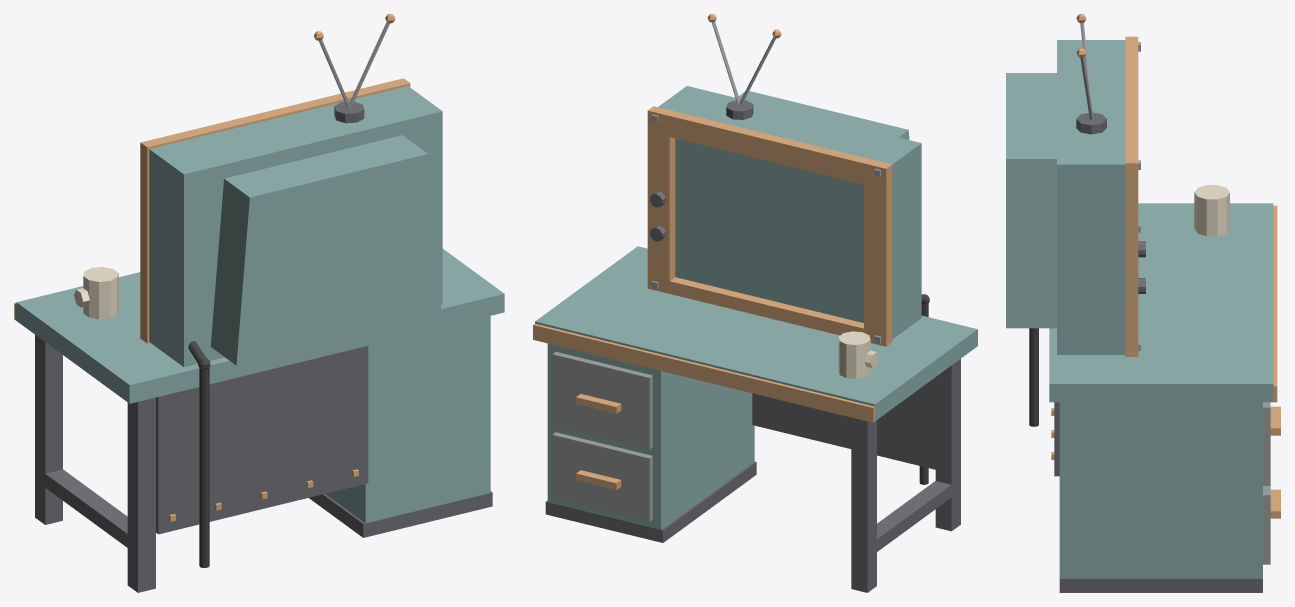
Rendered from grabber_desk.glb.
3 renders of one model, left to right at view 1: azimuth 30°, elevation 25°; view 2: azimuth 150°, elevation 25°; view 3: azimuth 270°, elevation 25°, orthographic. The views are drawn at different scales.
Parts seen in each view (by area): view 1: GrabberDesk; view 2: GrabberDesk; view 3: GrabberDesk.
Part boxes in pixels (x1,y1,x2,y2): GrabberDesk: (14,14,504,592); GrabberDesk: (533,14,977,592); GrabberDesk: (1006,14,1280,592).
Size of the model in its own units: 0.84 by 1.09 by 0.54.
